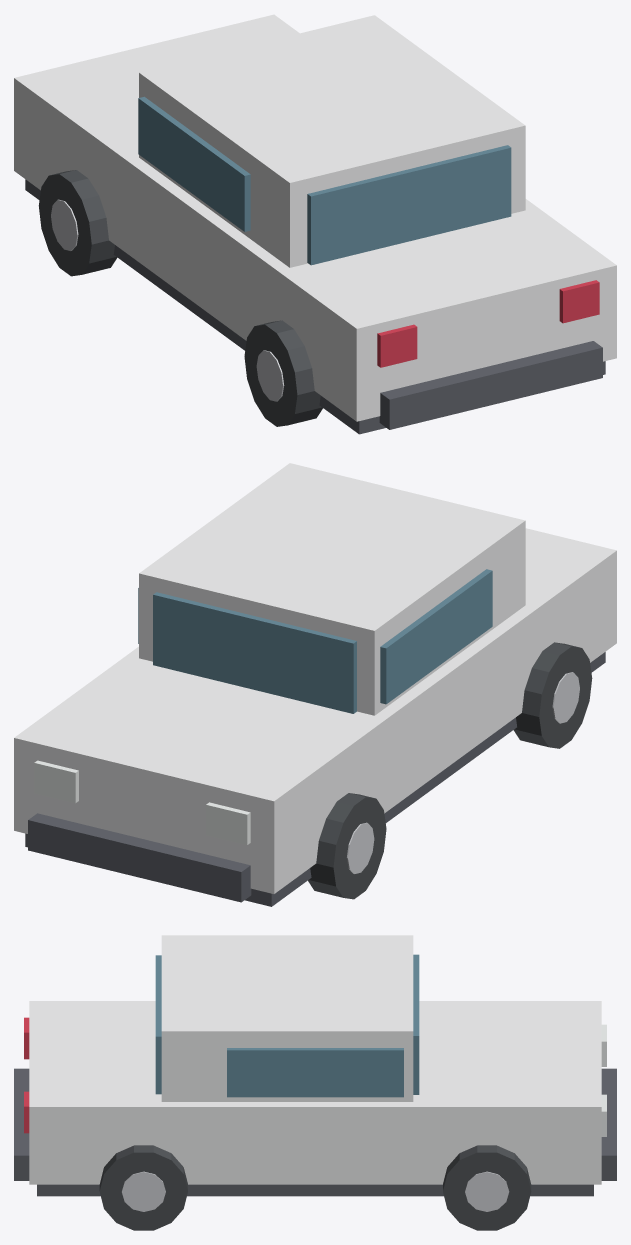
3 renders of one model, top to bottom at view 1: azimuth 30°, elevation 25°; view 2: azimuth 150°, elevation 25°; view 3: azimuth 270°, elevation 25°, orthographic. The views are drawn at different scales.
Visible parts, largest first — view 1: BODY_main, BODY_cabin, WINDOW_rear, BODY_bumper_rear, WINDOW_side_-1, WHEEL_-1_1.164, WHEEL_-1_-1.164, BODY_lower, LIGHT_rear_-1, LIGHT_rear_1, WHEEL_-1_1.164_hub, WHEEL_-1_-1.164_hub; view 2: BODY_main, BODY_cabin, WINDOW_front, BODY_bumper_front, WINDOW_side_-1, WHEEL_-1_1.164, WHEEL_-1_-1.164, BODY_lower, LIGHT_front_1, LIGHT_front_-1, WHEEL_-1_1.164_hub, WHEEL_-1_-1.164_hub; view 3: BODY_main, BODY_cabin, WINDOW_side_1, BODY_lower, WHEEL_1_-1.164, WHEEL_1_1.164, BODY_bumper_rear, BODY_bumper_front, WHEEL_1_-1.164_hub, WHEEL_1_1.164_hub, WINDOW_front, WINDOW_rear.
Part boxes in pixels (left/top/right/bottom): BODY_main: left=14, top=14, right=616, bottom=421; BODY_cabin: left=139, top=15, right=525, bottom=267; WINDOW_rear: left=307, top=145, right=511, bottom=265; BODY_bumper_rear: left=379, top=341, right=602, bottom=429; WINDOW_side_-1: left=138, top=96, right=250, bottom=231; WHEEL_-1_1.164: left=244, top=320, right=322, bottom=426; WHEEL_-1_-1.164: left=38, top=170, right=117, bottom=276; BODY_lower: left=25, top=179, right=605, bottom=434; LIGHT_rear_-1: left=377, top=324, right=417, bottom=367; LIGHT_rear_1: left=559, top=280, right=599, bottom=323; WHEEL_-1_1.164_hub: left=256, top=350, right=284, bottom=401; WHEEL_-1_-1.164_hub: left=51, top=199, right=78, bottom=250; BODY_main: left=14, top=528, right=616, bottom=893; BODY_cabin: left=139, top=463, right=525, bottom=715; WINDOW_front: left=153, top=592, right=356, bottom=713; BODY_bumper_front: left=28, top=813, right=251, bottom=902; WINDOW_side_-1: left=380, top=569, right=492, bottom=704; WHEEL_-1_1.164: left=513, top=642, right=592, bottom=748; WHEEL_-1_-1.164: left=308, top=793, right=386, bottom=899; BODY_lower: left=25, top=652, right=605, bottom=906; LIGHT_front_1: left=34, top=760, right=78, bottom=803; LIGHT_front_-1: left=206, top=802, right=250, bottom=844; WHEEL_-1_1.164_hub: left=552, top=672, right=579, bottom=723; WHEEL_-1_-1.164_hub: left=347, top=822, right=374, bottom=873; BODY_main: left=29, top=1001, right=601, bottom=1184; BODY_cabin: left=161, top=935, right=413, bottom=1101; WINDOW_side_1: left=227, top=1048, right=403, bottom=1097; BODY_lower: left=37, top=1184, right=593, bottom=1196; WHEEL_1_-1.164: left=443, top=1145, right=531, bottom=1230; WHEEL_1_1.164: left=99, top=1145, right=187, bottom=1230; BODY_bumper_rear: left=14, top=1068, right=29, bottom=1180; BODY_bumper_front: left=601, top=1068, right=616, bottom=1180; WHEEL_1_-1.164_hub: left=465, top=1171, right=509, bottom=1211; WHEEL_1_1.164_hub: left=121, top=1171, right=165, bottom=1211; WINDOW_front: left=413, top=954, right=419, bottom=1094; WINDOW_rear: left=155, top=955, right=161, bottom=1094.
Size of the model in its own units: 1.94 by 1.4 by 4.09.
